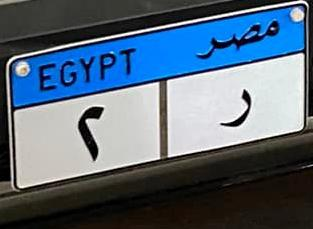2: (78, 99, 110, 176)
ر: (212, 74, 261, 140)
